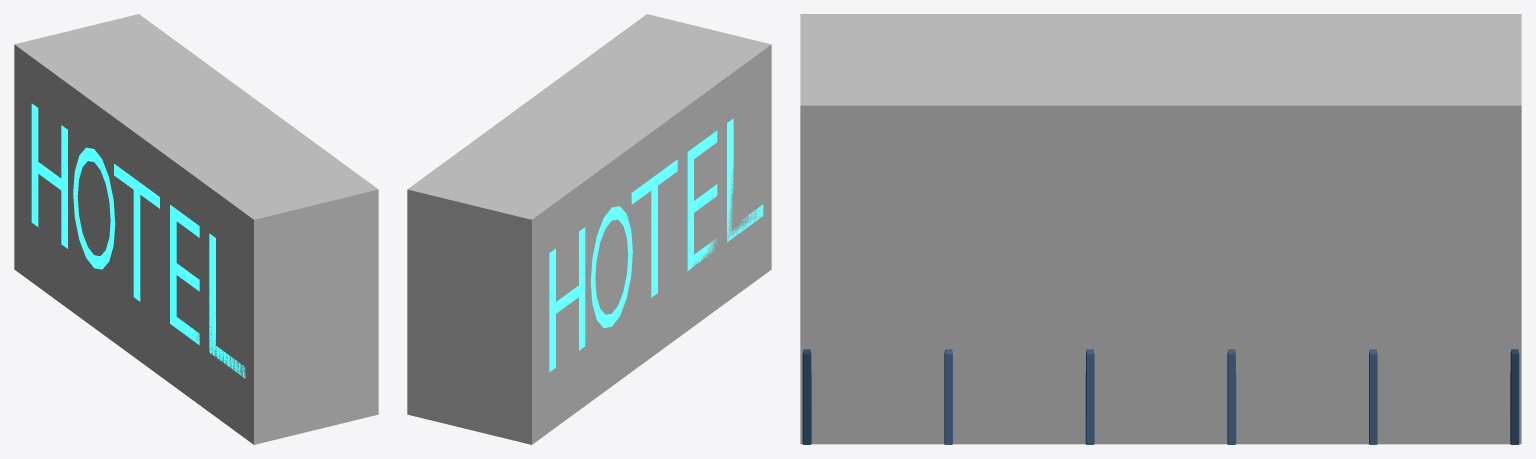
File: SM_Roof_Billboard_01.fbx
The picture shows the model from 3 angles, left to right: view 1: azimuth 30°, elevation 25°; view 2: azimuth 150°, elevation 25°; view 3: azimuth 270°, elevation 25°; orthographic projection. The views are drawn at different scales.
Visible parts, largest first — view 1: SM_Roof_Billboard_01_ConvexHulls, SM_Roof_Billboard_01; view 2: SM_Roof_Billboard_01_ConvexHulls, SM_Roof_Billboard_01; view 3: SM_Roof_Billboard_01_ConvexHulls, SM_Roof_Billboard_01.
Part boxes in pixels (x1=…): SM_Roof_Billboard_01_ConvexHulls: x1=14, y1=14, x2=378, y2=444; SM_Roof_Billboard_01: x1=31, y1=103, x2=245, y2=378; SM_Roof_Billboard_01_ConvexHulls: x1=407, y1=14, x2=771, y2=444; SM_Roof_Billboard_01: x1=549, y1=118, x2=763, y2=372; SM_Roof_Billboard_01_ConvexHulls: x1=800, y1=14, x2=1521, y2=444; SM_Roof_Billboard_01: x1=802, y1=349, x2=1519, y2=444.
Bounding box in the file's own units: 154 × 510 × 264.
Materials: 2 (1 with a texture image).
